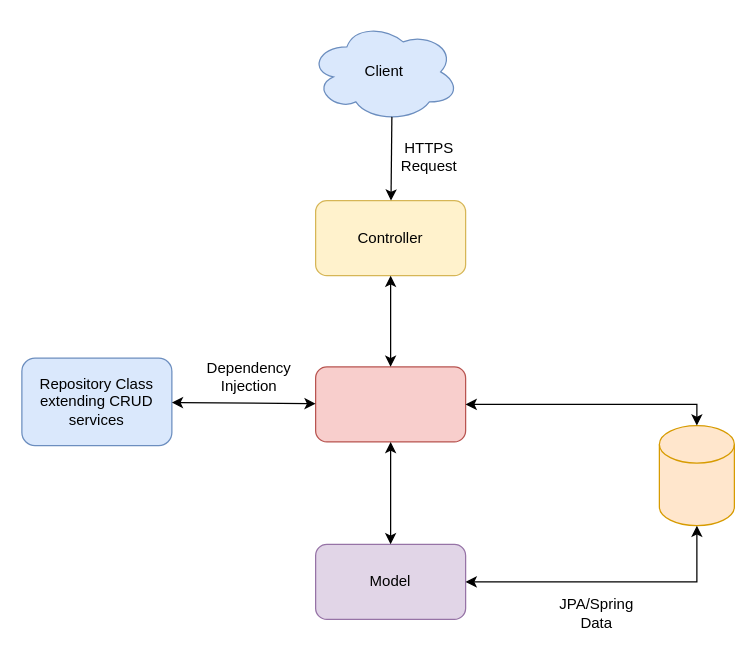
Image size: 756x654. Some labels were removed from this diagram. The centre of each missing label's shape, as x and y in pixels:
DB: (x=696, y=475)
Service Layer: (x=390, y=404)
